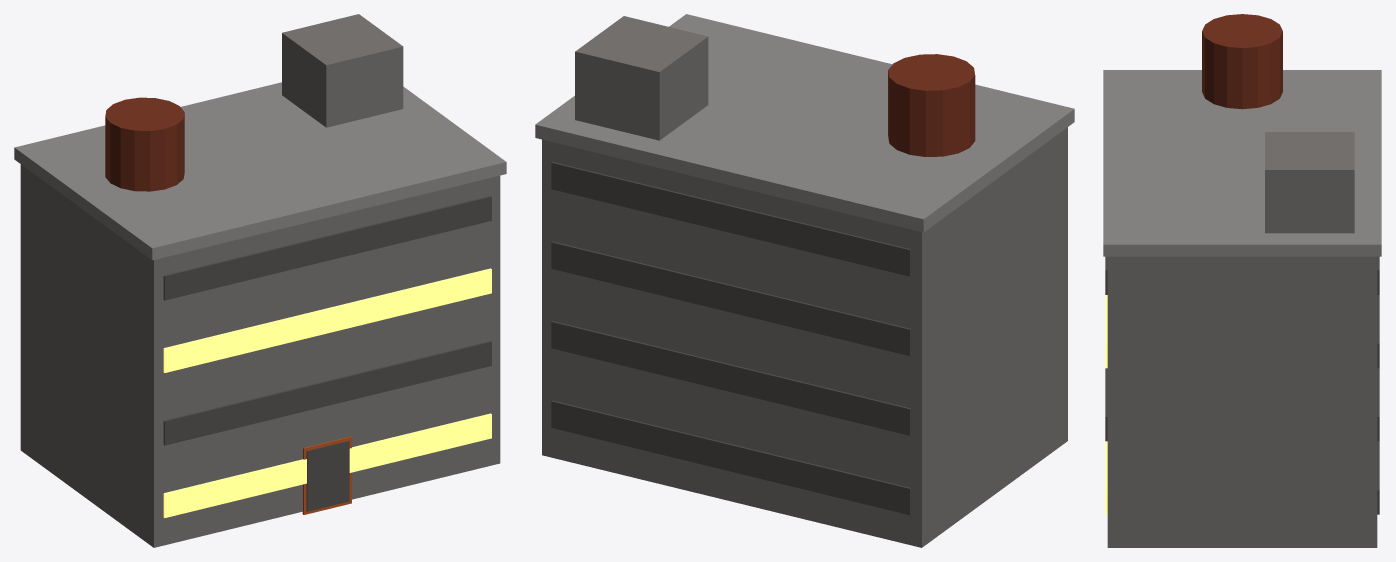
Rendered from factory_block_script.glb.
3 views of the same model, side by side, from view 1: azimuth 30°, elevation 25°; view 2: azimuth 150°, elevation 25°; view 3: azimuth 270°, elevation 25° (orthographic). The views are drawn at different scales.
Parts seen in each view (by area): view 1: Cube, Cube.009, Cube.010, Cube.003, Cube.005, Cube.007, Cube.001, Cylinder, Cube.012, Cube.011; view 2: Cube, Cube.009, Cube.010, Cube.006, Cube.008, Cube.004, Cube.002, Cylinder; view 3: Cube, Cube.009, Cube.010, Cylinder.
Boxes of the visible parts, box(x1,y1,x2,y2) form: Cube: box(20, 164, 500, 547); Cube.009: box(14, 82, 506, 260); Cube.010: box(282, 14, 403, 127); Cube.003: box(163, 341, 491, 445); Cube.005: box(163, 268, 491, 372); Cube.007: box(163, 196, 491, 300); Cube.001: box(163, 413, 491, 517); Cylinder: box(105, 97, 184, 191); Cube.012: box(306, 441, 349, 511); Cube.011: box(302, 436, 351, 514); Cube: box(542, 127, 1067, 547); Cube.009: box(535, 14, 1074, 232); Cube.010: box(575, 16, 708, 140); Cube.006: box(551, 241, 911, 356); Cube.008: box(551, 162, 911, 276); Cube.004: box(551, 321, 911, 435); Cube.002: box(551, 400, 911, 515); Cylinder: box(888, 54, 975, 156); Cube: box(1107, 256, 1377, 547); Cube.009: box(1103, 70, 1381, 256); Cube.010: box(1265, 132, 1354, 233); Cylinder: box(1202, 14, 1282, 109).
Bounding box in the file's own units: 18.4 × 18.55 × 12.4.
